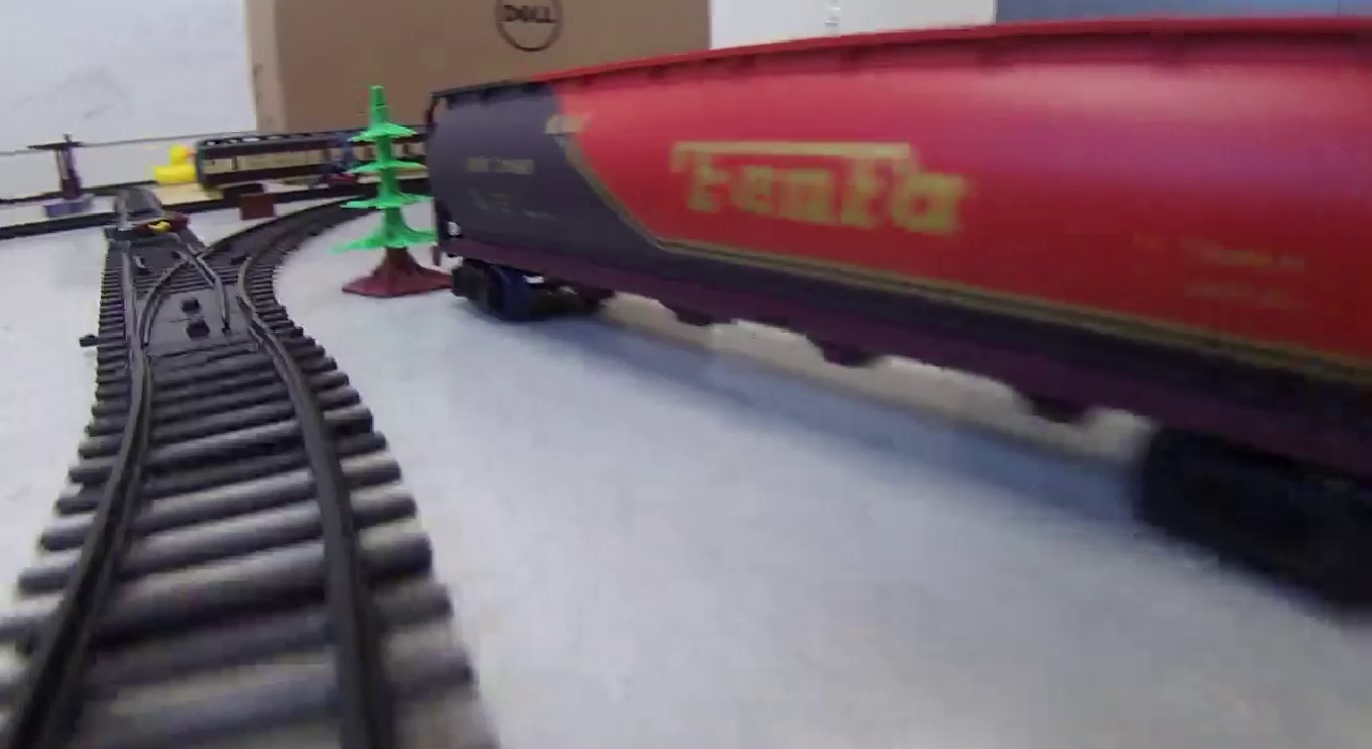tree: (339, 83, 438, 291)
